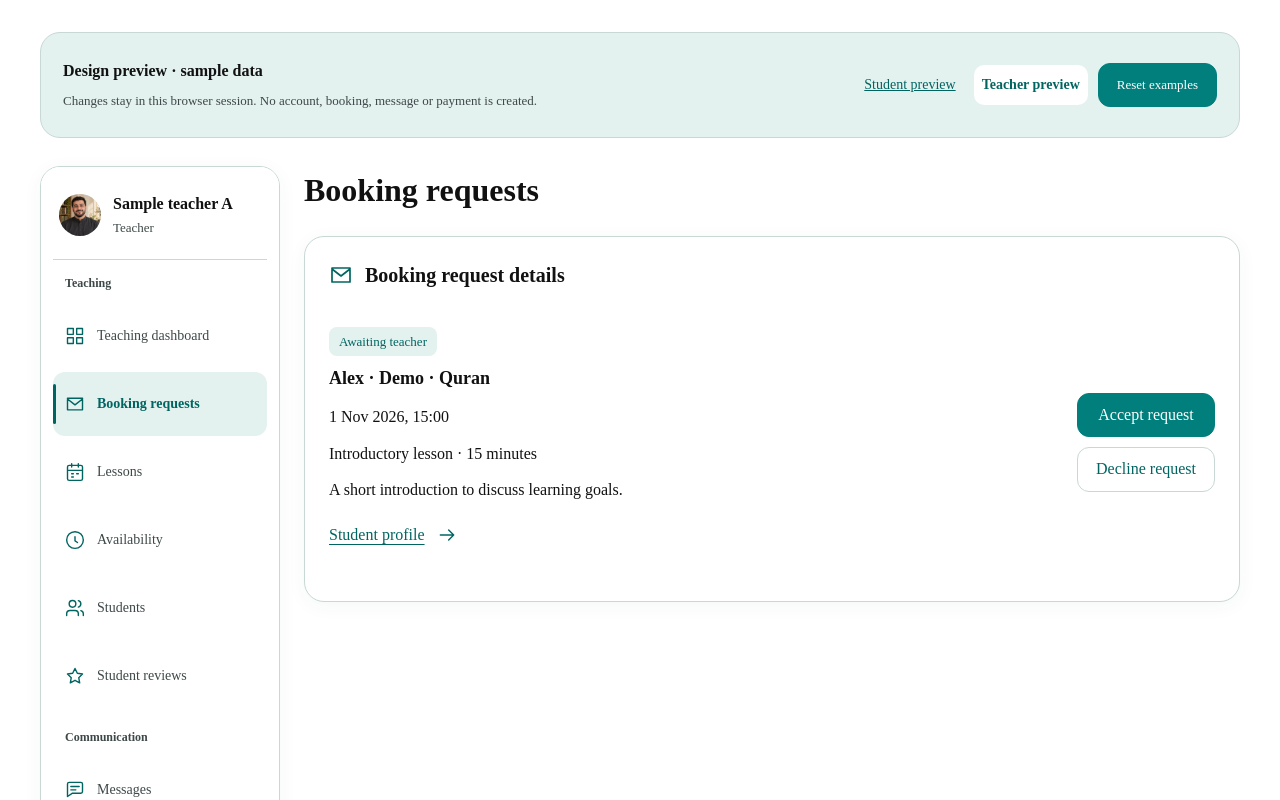
it: Connected account screens › accepts a request once and shows its new lesson from the student account
What coordinates should you click on to do the following:
click the button "Accept request"
I would click on:
 (1146, 415)
Its box is [1077,393,1215,437].
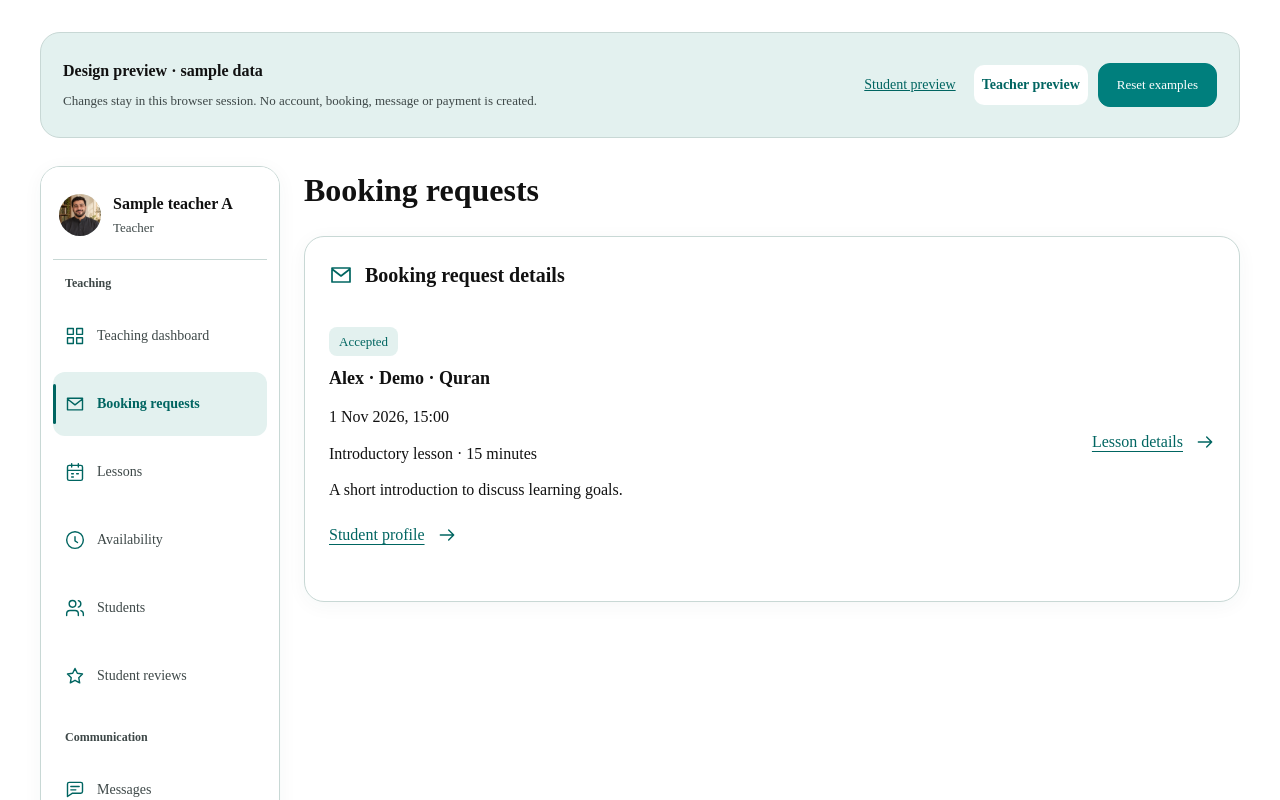
Expected: the button "Accept request" is gone
